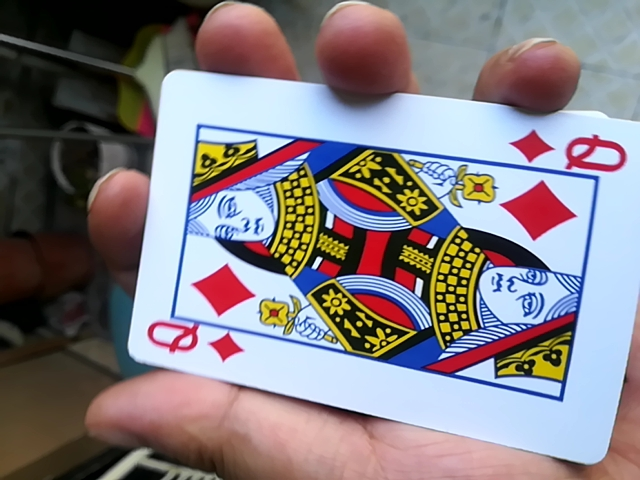fk q: (122, 72, 636, 459)
